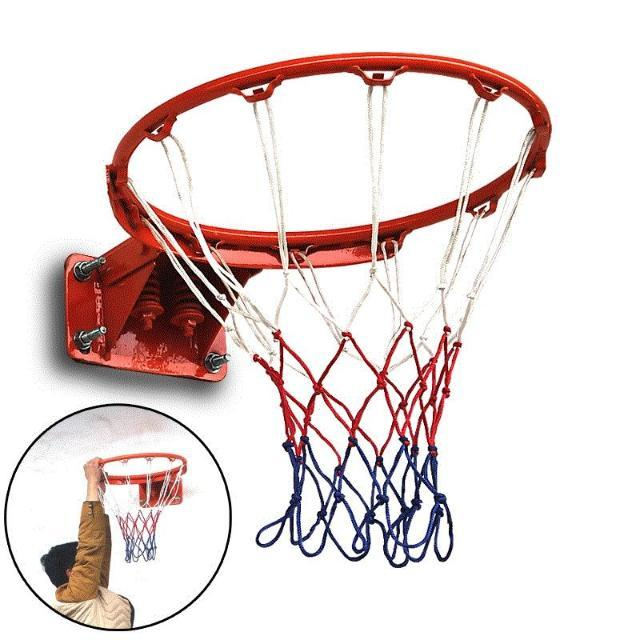rim: (106, 53, 550, 569)
